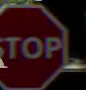Stop: (1, 3, 69, 89)
